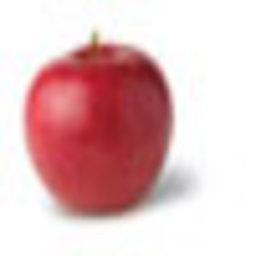apple: (17, 34, 176, 216)
